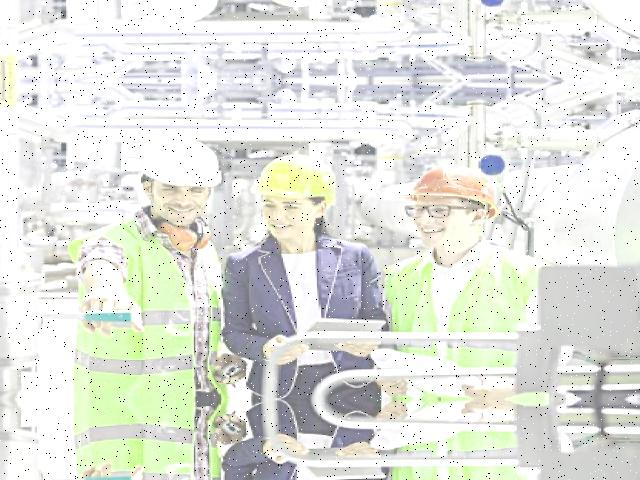Helmet: (394, 161, 501, 224), (241, 150, 347, 208), (136, 134, 224, 195)
